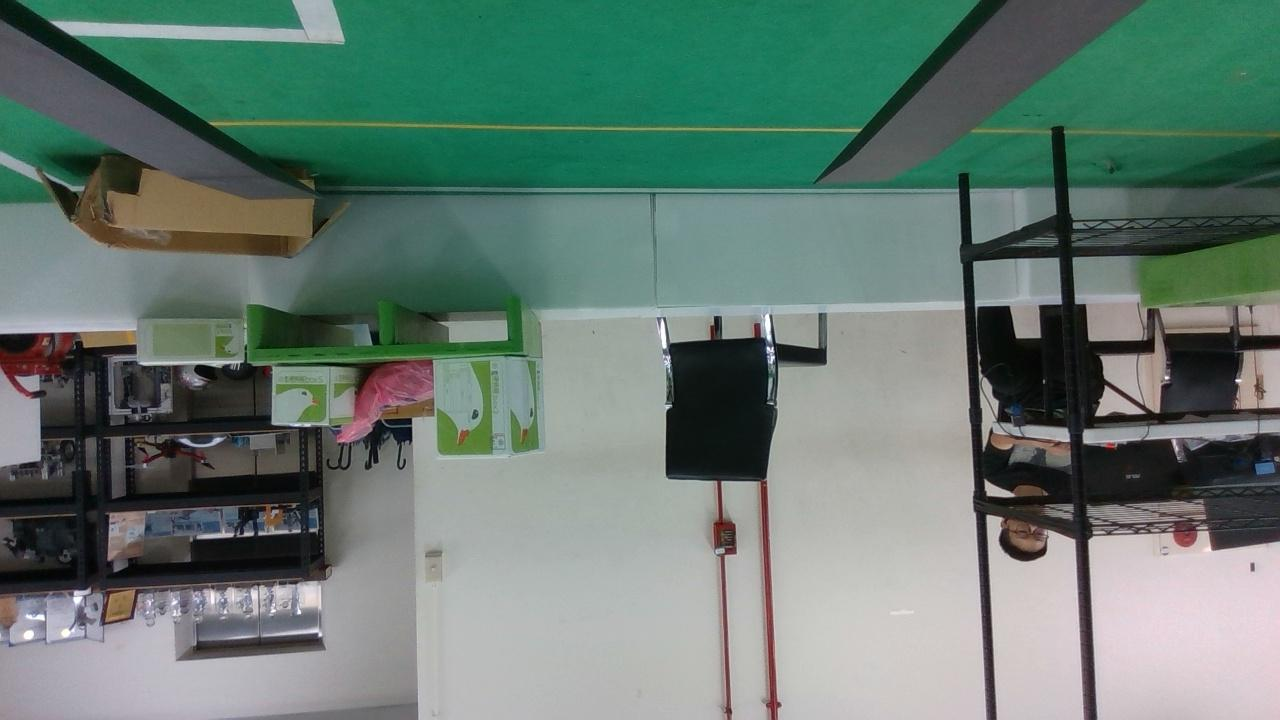Pallet: (246, 297, 523, 365)
